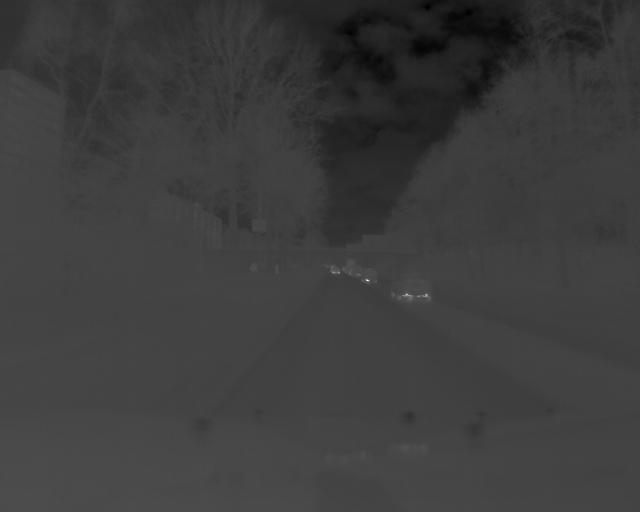car: (391, 266, 434, 302), (357, 267, 381, 287), (330, 264, 342, 277)
